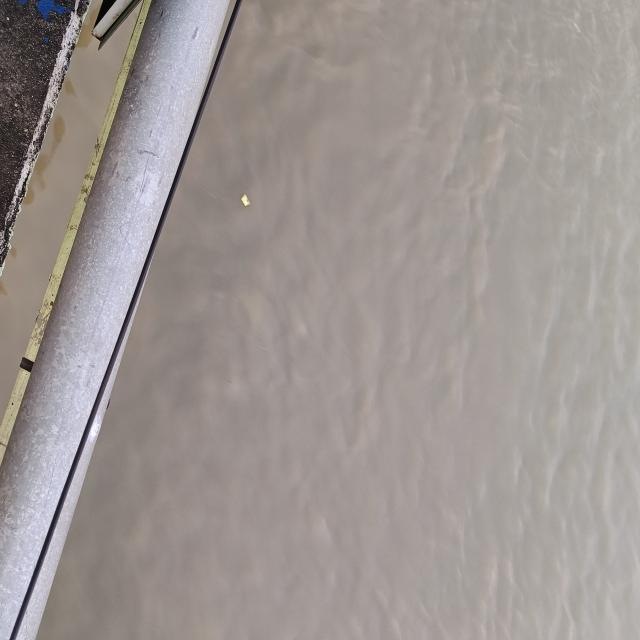Plastic: (239, 188, 252, 215)
